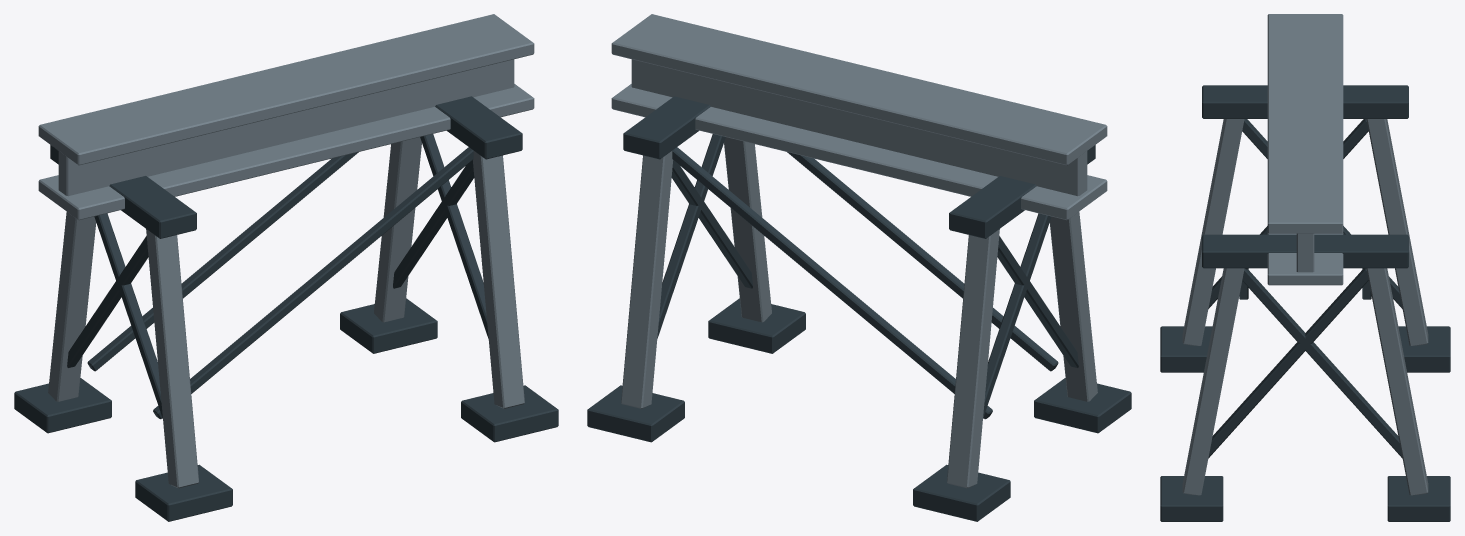
The model's file is b07_heavy_steel_shoring_trestle.glb.
3 views of the same model, side by side, from view 1: azimuth 30°, elevation 25°; view 2: azimuth 150°, elevation 25°; view 3: azimuth 270°, elevation 25° (orthographic). The views are drawn at different scales.
Visible parts, largest first — view 1: b07_heavy_steel_shoring_trestle; view 2: b07_heavy_steel_shoring_trestle; view 3: b07_heavy_steel_shoring_trestle.
Boxes of the visible parts, x1,y1,x2,y2 form: b07_heavy_steel_shoring_trestle: [14, 14, 558, 521]; b07_heavy_steel_shoring_trestle: [587, 14, 1131, 521]; b07_heavy_steel_shoring_trestle: [1160, 14, 1450, 521].
Size of the model in its own units: 3.14 by 2.2 by 1.84.
